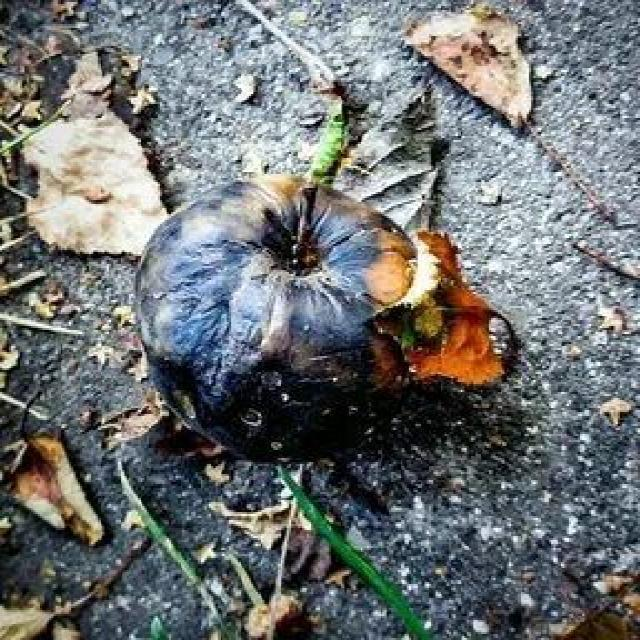Apple: (132, 172, 458, 470)
